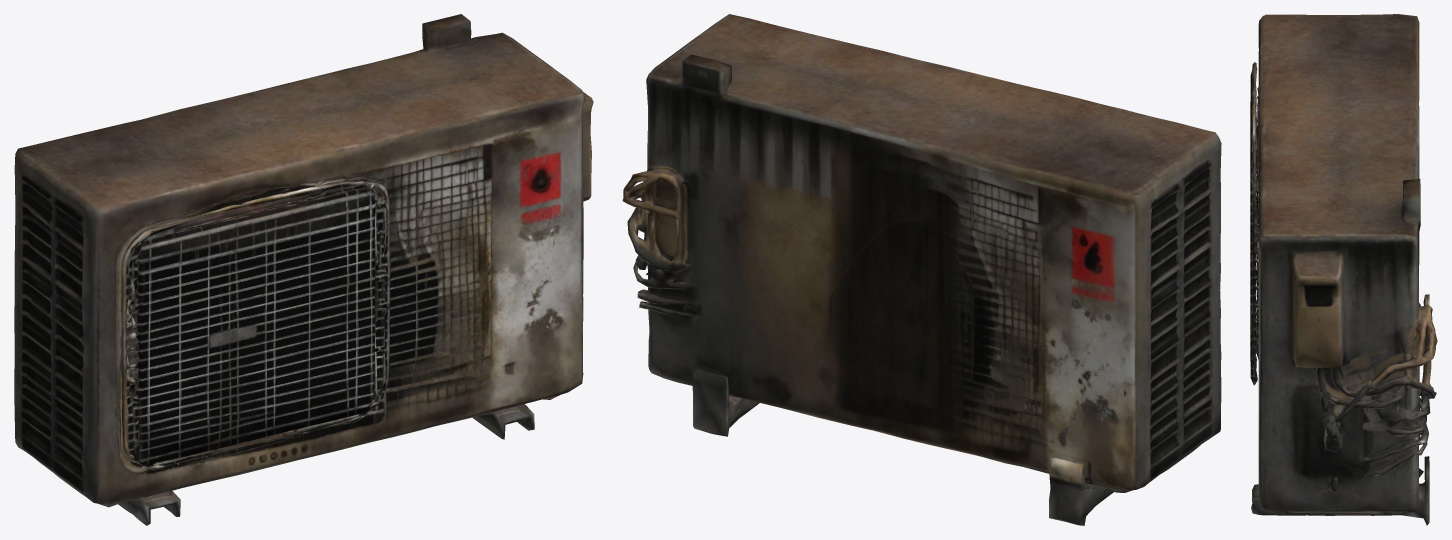
The model's file is OldAirConditioning.fbx.
3 renders of one model, left to right at view 1: azimuth 30°, elevation 25°; view 2: azimuth 150°, elevation 25°; view 3: azimuth 270°, elevation 25°, orthographic. The views are drawn at different scales.
Visible parts, largest first — view 1: Mesh1; view 2: Mesh1; view 3: Mesh1.
Boxes of the visible parts, x1=… form: Mesh1: x1=14, y1=14, x2=593, y2=525; Mesh1: x1=622, y1=14, x2=1221, y2=525; Mesh1: x1=1250, y1=14, x2=1437, y2=525.
Bounding box in the file's own units: 201 × 131 × 65.49.
1 material, 1 textured.
